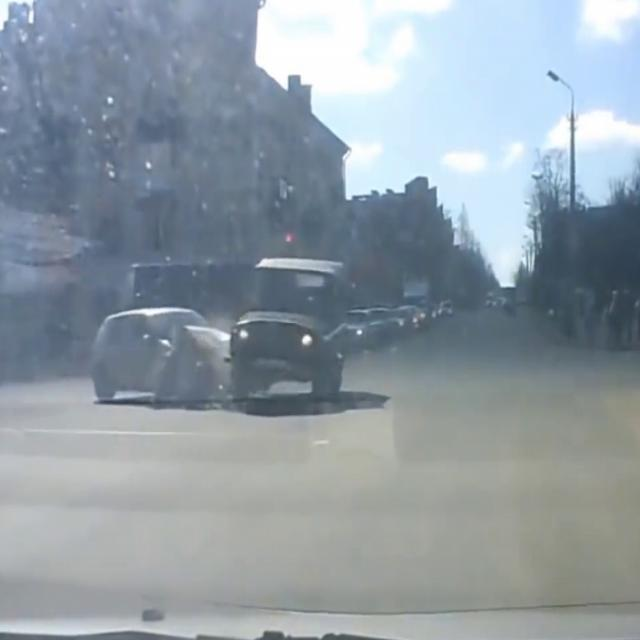accident: (106, 268, 360, 418)
